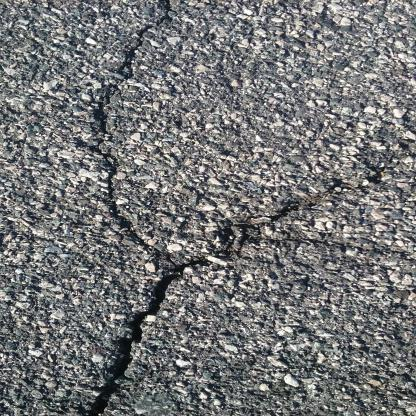Cracks: (82, 174, 384, 415), (73, 1, 186, 269)
